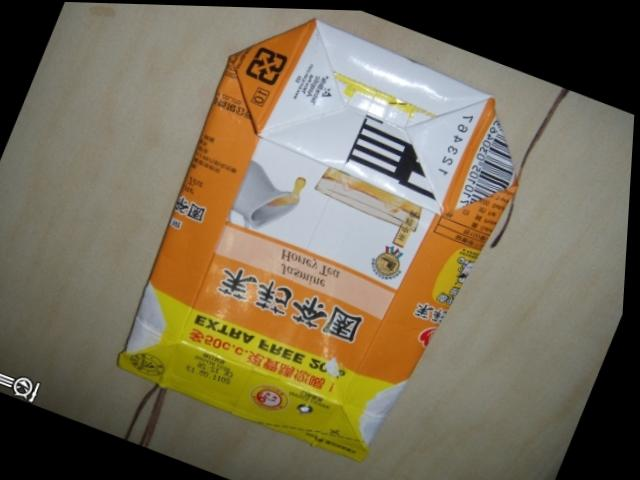cardboard: (103, 19, 559, 469)
